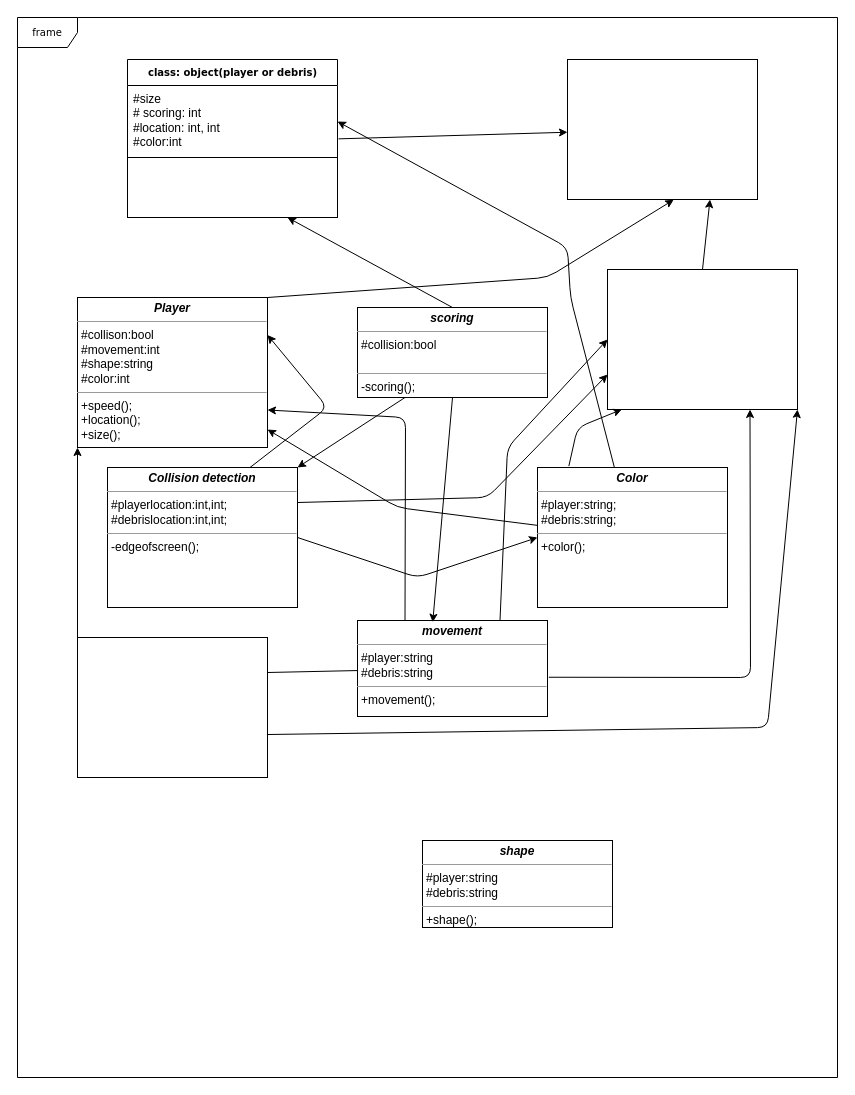
Image size: 855x1095. Some labels were removed from this diagram. Each missing label, with the centre of its shape:
"-font()" belongs at [232,187].
"Debris #collision #shape:string #color:int + speed(); +location(); +size();" belongs at [702,339].
"Game -screen:int +player() + debris() +text() +scoring()" belongs at [662,129].
"SHAPE + method1(Type): Type + method2(Type, Type): Type" belongs at [172,707].
